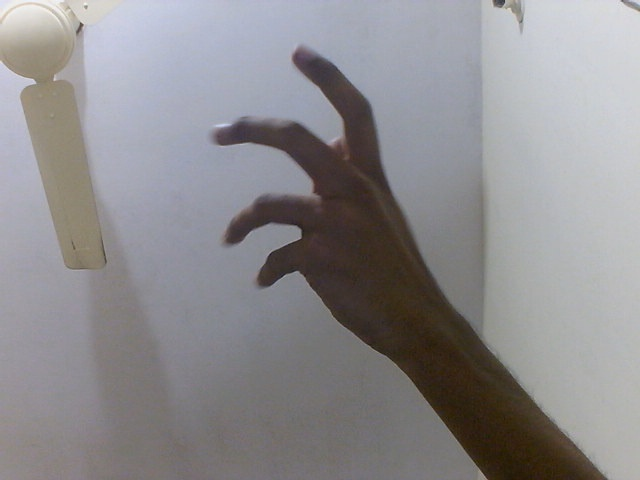hand: (207, 41, 445, 364)
